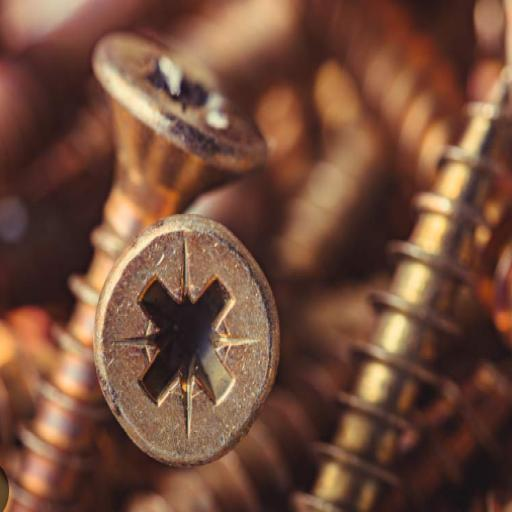Phillips: (93, 218, 280, 464)
